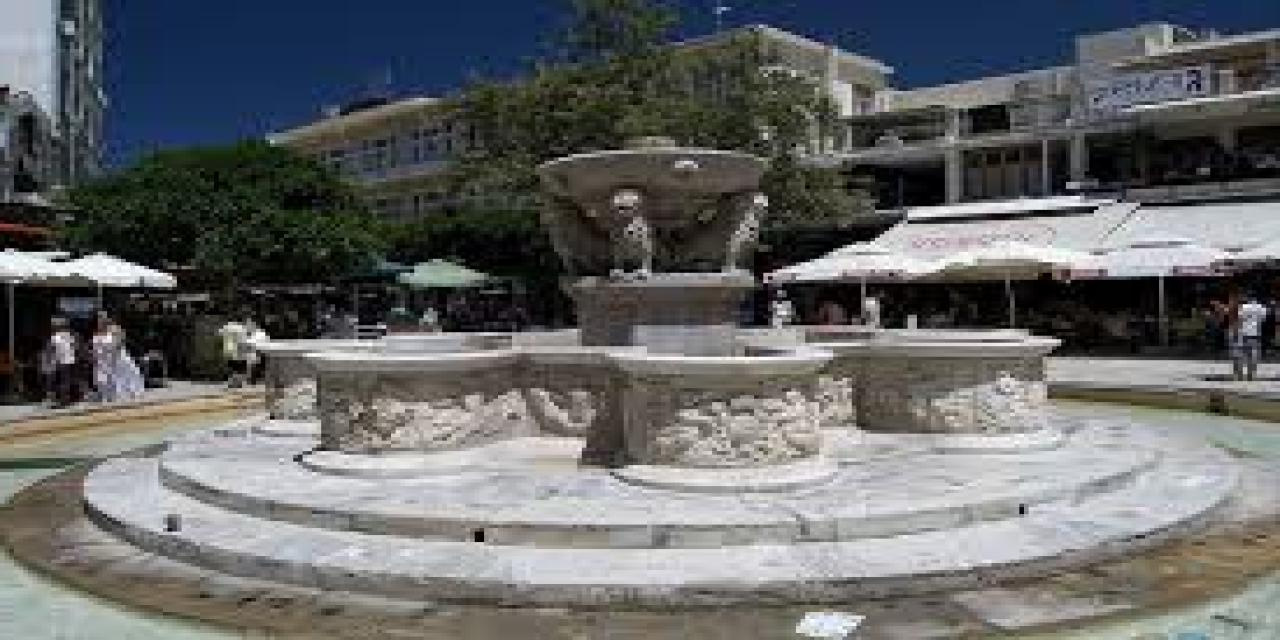Liontaria: (250, 147, 1054, 493)
